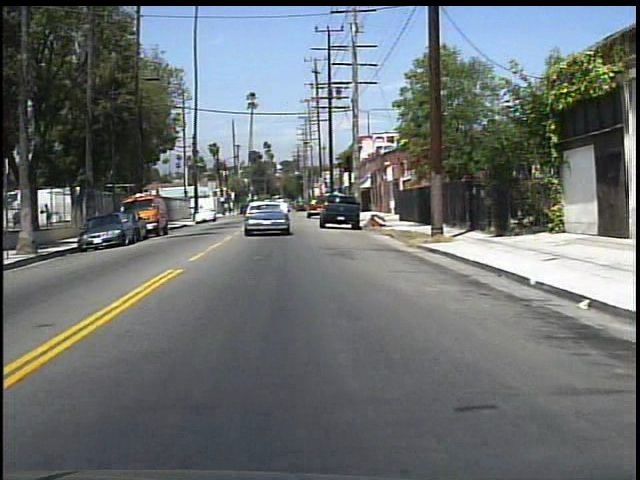person: (42, 201, 56, 232)
